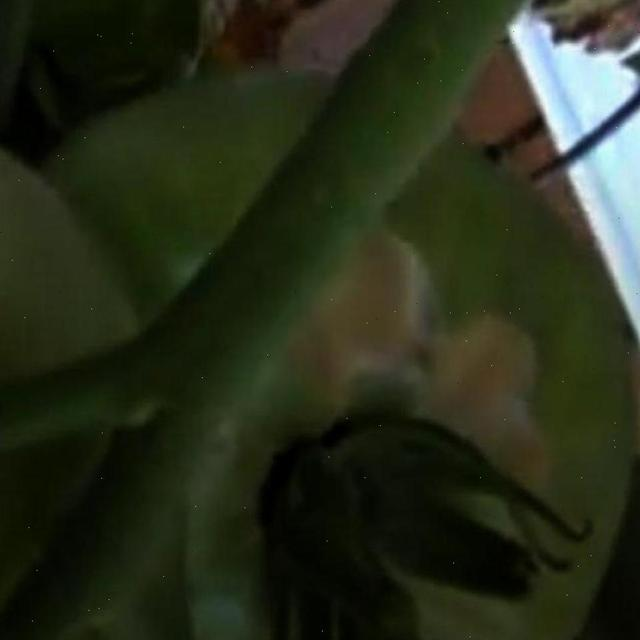Sunscald Fruit: (171, 122, 386, 388)
